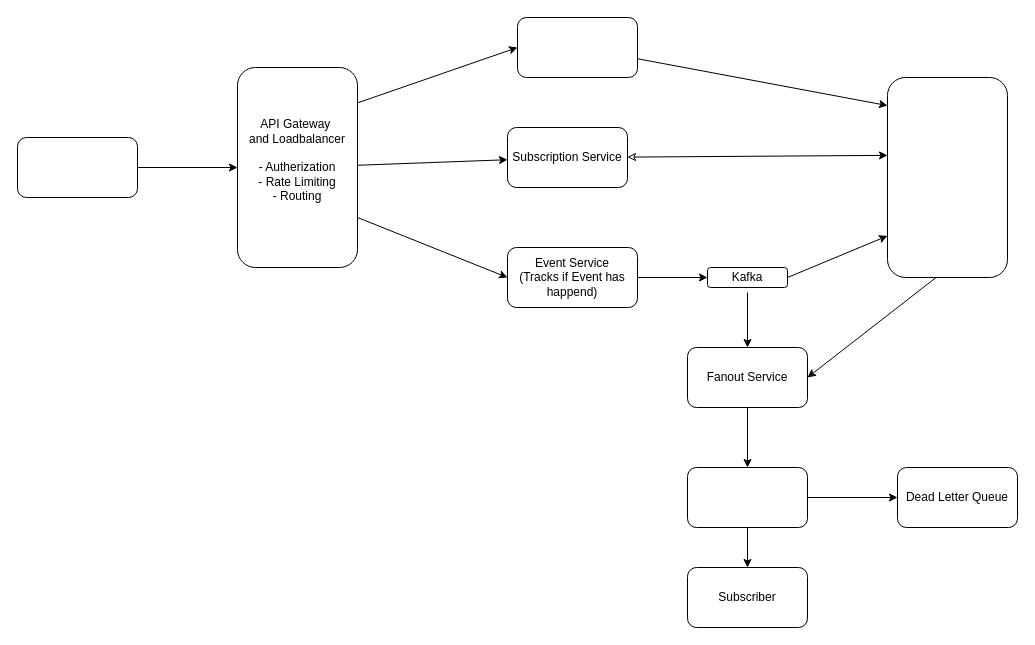
The diagram is 1035 pixels wide and 645 high, and some of its shapes have lost their labels. The centre of each missing label's shape, as x and y in pixels:
"Client" belongs at pixel 77 167.
"Endpoint Service" belongs at pixel 577 47.
"Notifier Service" belongs at pixel 747 497.
"Postgres - Endpoints - Events Type - Subscription - User" belongs at pixel 947 177.
